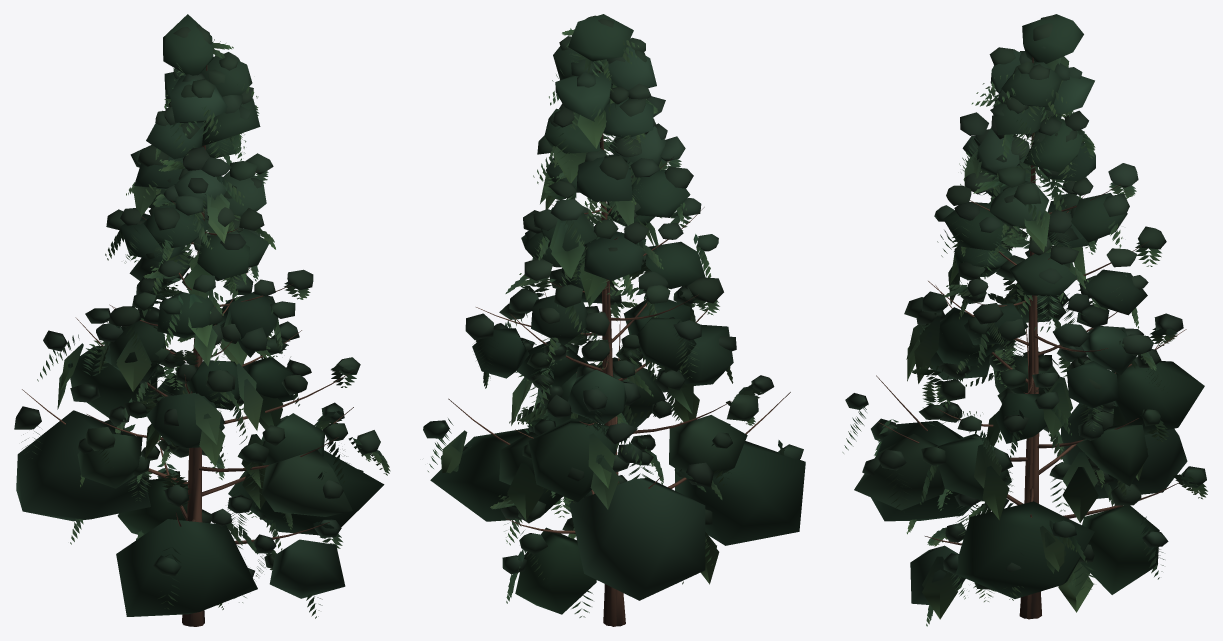
Rendered from norway-spruce.glb.
The picture shows the model from 3 angles, left to right: view 1: azimuth 30°, elevation 25°; view 2: azimuth 150°, elevation 25°; view 3: azimuth 270°, elevation 25°; orthographic projection. The views are drawn at different scales.
Parts seen in each view (by area): view 1: norway-spruce-lo, norway-spruce; view 2: norway-spruce-lo, norway-spruce; view 3: norway-spruce-lo, norway-spruce.
Part boxes in pixels (x1,y1,x2,y2): norway-spruce-lo: (16,14,384,626); norway-spruce: (14,25,390,626); norway-spruce-lo: (430,14,805,626); norway-spruce: (423,15,803,626); norway-spruce-lo: (854,14,1204,619); norway-spruce: (842,15,1207,626).
Bounding box in the file's own units: 15.74 × 29.04 × 16.37.
